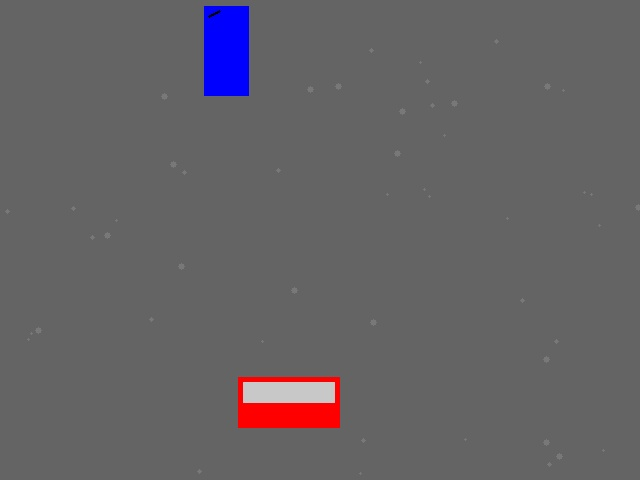car: (238, 377, 339, 427)
motorcycle: (204, 6, 248, 95)
